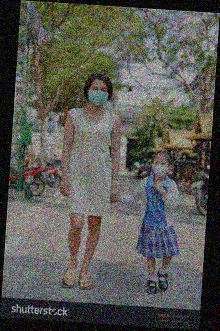with_mask: (88, 86, 109, 106), (151, 160, 169, 178)
